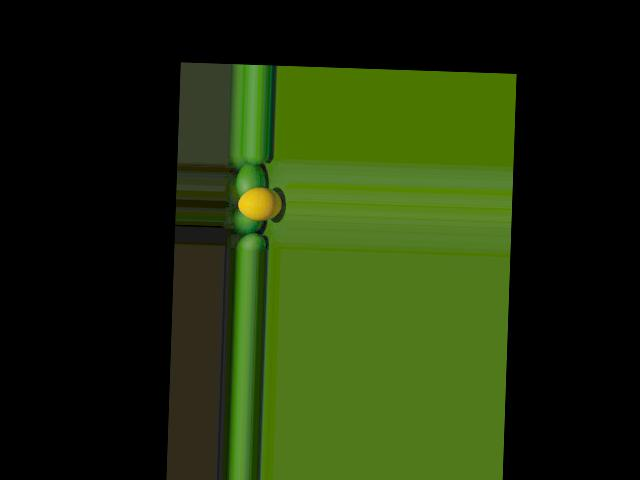egg: (238, 186, 282, 221)
